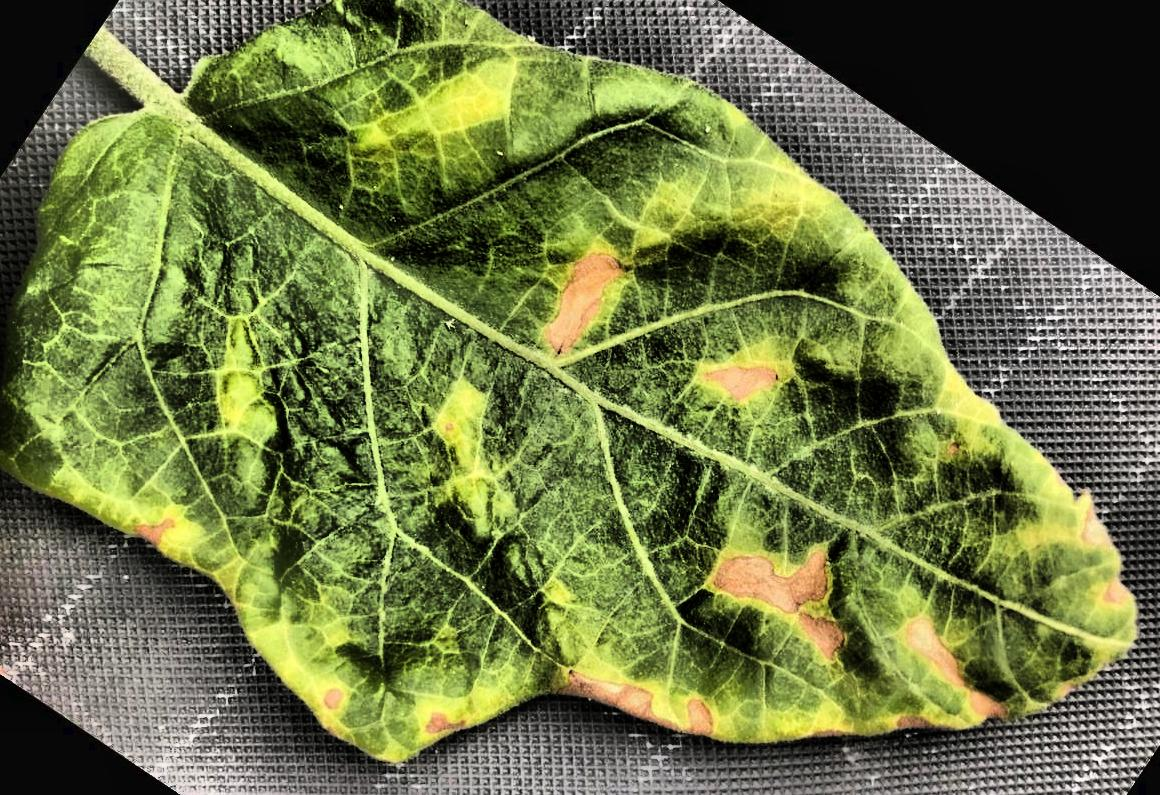Critical Stress: (1, 0, 1160, 795)
